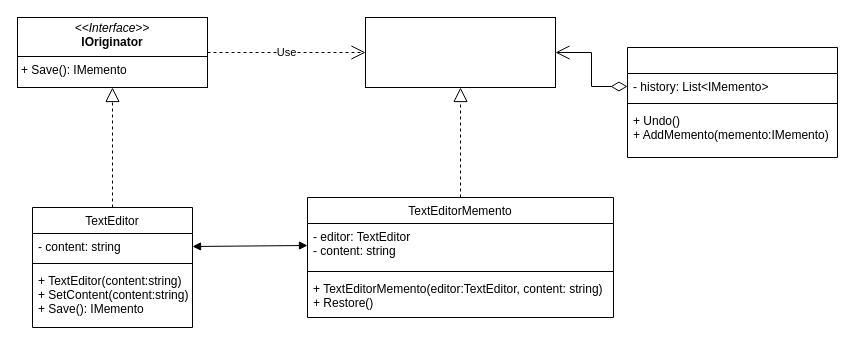
This 855x348 diagram has some shape labels left out. Here are the shapes that lost their labels. From the top down, the box of each, then its label:
(364, 16, 556, 88): <<Interface>> IMemento + Restore()
(626, 46, 838, 158): Caretaker
